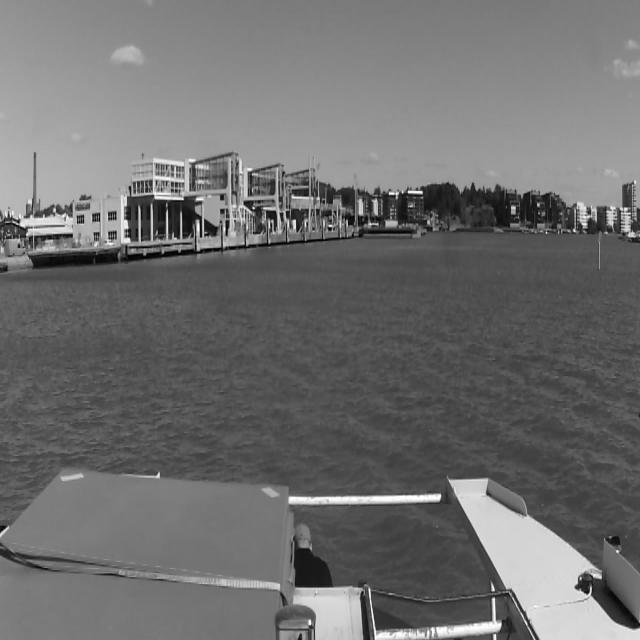buoy: (597, 238, 601, 268)
